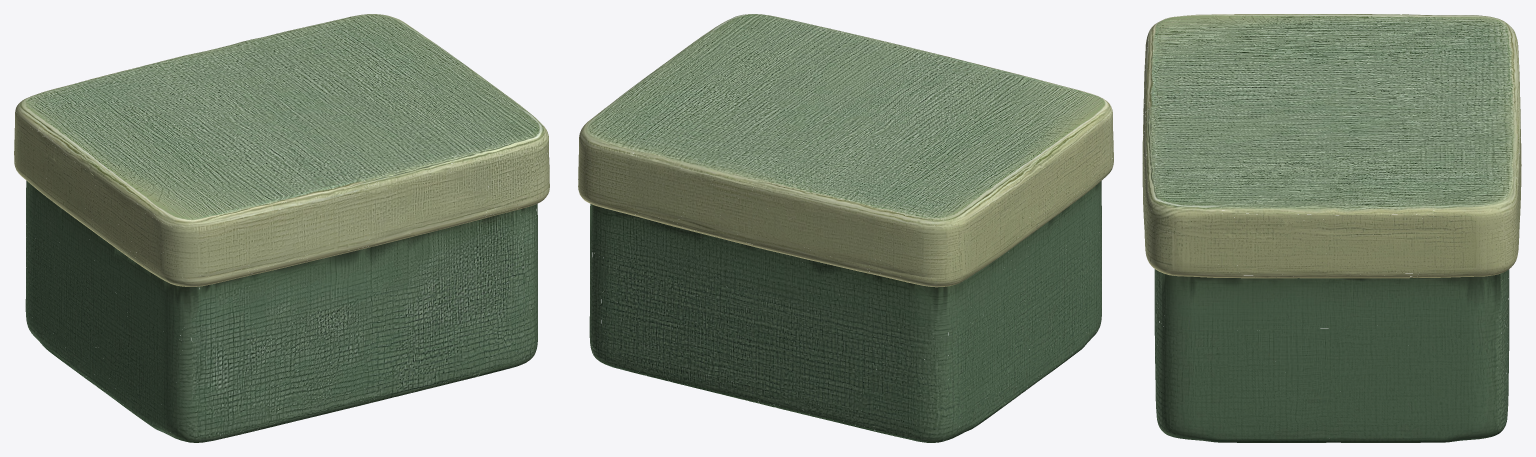
Rendered from storage-box.glb.
3 views of the same model, side by side, from view 1: azimuth 30°, elevation 25°; view 2: azimuth 150°, elevation 25°; view 3: azimuth 270°, elevation 25° (orthographic). The views are drawn at different scales.
Visible parts, largest first — view 1: storage-box; view 2: storage-box; view 3: storage-box.
Part boxes in pixels (x1,y1,x2,y2): storage-box: (14, 14, 549, 442); storage-box: (578, 14, 1113, 442); storage-box: (1142, 14, 1521, 442).
Size of the model in its own units: 0.9794 by 0.5605 by 0.7882.
Materials: 1 (1 with a texture image).
